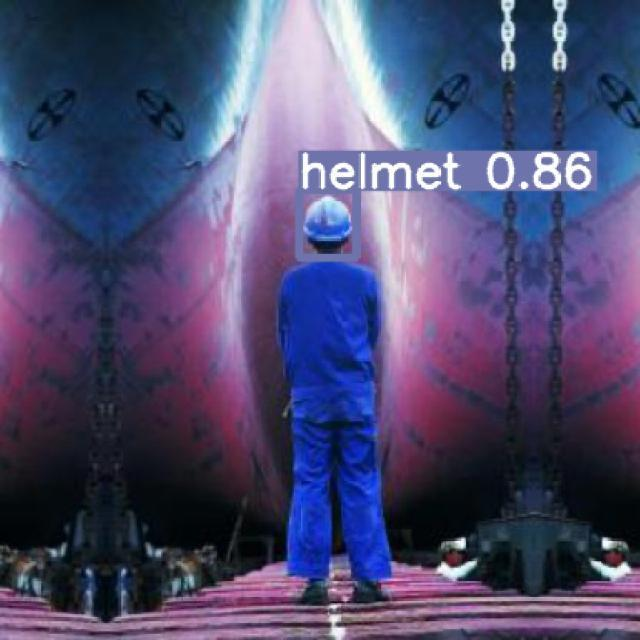blue helmet: (304, 194, 357, 253)
